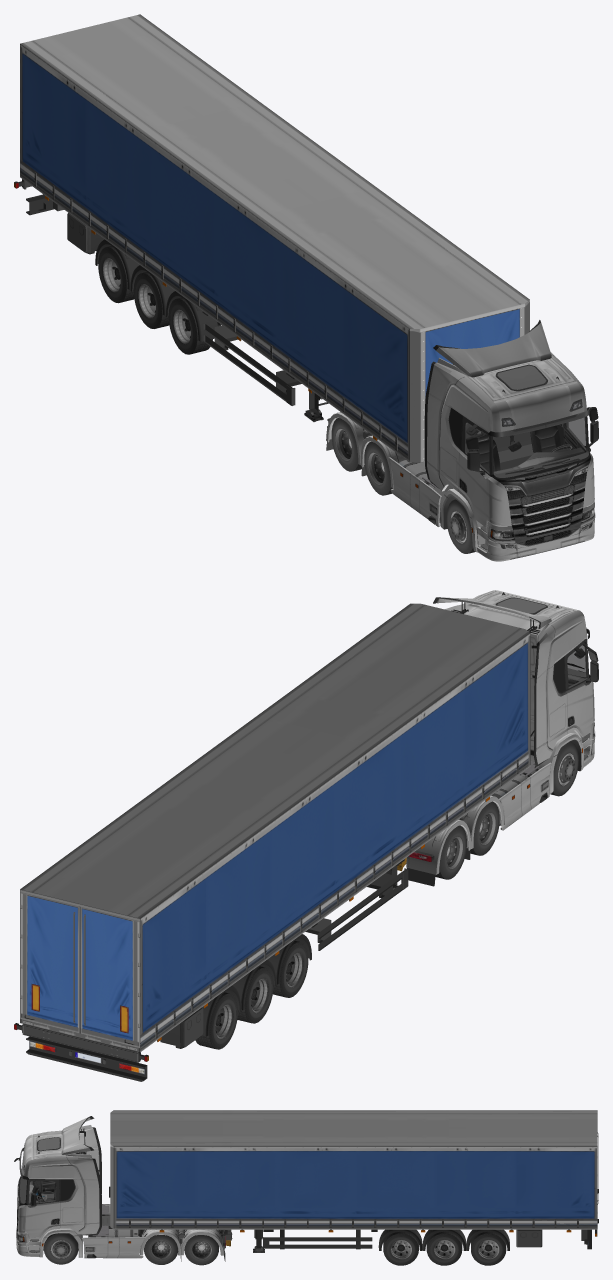
File: Truck 3.obj
3 renders of one model, top to bottom at view 1: azimuth 30°, elevation 25°; view 2: azimuth 150°, elevation 25°; view 3: azimuth 270°, elevation 25°, orthographic. The views are drawn at different scales.
Visible parts, largest first — view 1: Trailers, Body, Door_FR, T_Wheel__B_1, T_Wheel__B_3, T_Wheel__B_2, Wheel_BR_2, Wheel_BR_1, Wheel_FR_, Door_FL; view 2: Trailers, Body, T_Door_R, T_Door_L, Door_FR, T_Wheel__B_3, T_Wheel__B_2, T_Wheel__B_1, Wheel_BR_2, Wheel_BR_1, Wheel_FR_; view 3: Trailers, Body, Door_FL, T_Wheel__B_2, T_Wheel__B_1, T_Wheel__B_3, Wheel_FL_, Wheel_BL_2, Wheel_BL_1.
Boxes of the visible parts, x1,y1,x2,y2 form: Trailers: (14, 14, 529, 462); Body: (326, 320, 595, 561); Door_FR: (458, 416, 490, 527); T_Wheel__B_1: (168, 297, 212, 354); T_Wheel__B_3: (98, 246, 134, 303); T_Wheel__B_2: (133, 272, 169, 328); Wheel_BR_2: (331, 418, 361, 471); Wheel_BR_1: (364, 441, 393, 495); Wheel_FR_: (446, 499, 475, 553); Door_FL: (563, 407, 598, 454); Trailers: (14, 603, 530, 1081); Body: (397, 590, 595, 886); T_Door_R: (80, 904, 139, 1052); T_Door_L: (20, 889, 79, 1037); Door_FR: (564, 639, 598, 737); T_Wheel__B_3: (195, 992, 237, 1049); T_Wheel__B_2: (237, 966, 273, 1023); T_Wheel__B_1: (273, 940, 308, 997); Wheel_BR_2: (435, 825, 466, 879); Wheel_BR_1: (470, 801, 499, 855); Wheel_FR_: (550, 741, 578, 796); Trailers: (109, 1110, 598, 1252); Body: (14, 1116, 232, 1261); Door_FL: (25, 1179, 60, 1237); T_Wheel__B_2: (426, 1231, 462, 1265); T_Wheel__B_1: (383, 1231, 418, 1265); T_Wheel__B_3: (471, 1231, 506, 1265); Wheel_FL_: (43, 1233, 78, 1264); Wheel_BL_2: (184, 1235, 218, 1265); Wheel_BL_1: (144, 1235, 178, 1264).
Bounding box in the file's own units: 76.86 × 107 × 472.
